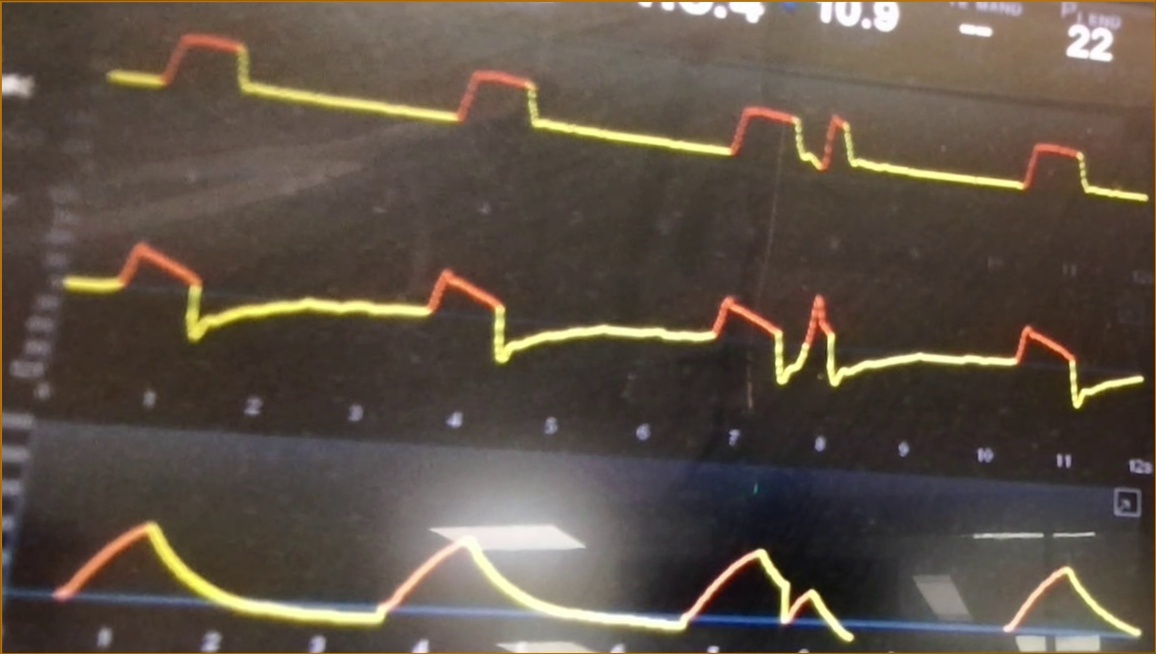Double_Triggering Flow: (511, 267, 1143, 425)
Double_Triggering Volume: (462, 491, 1142, 645)
